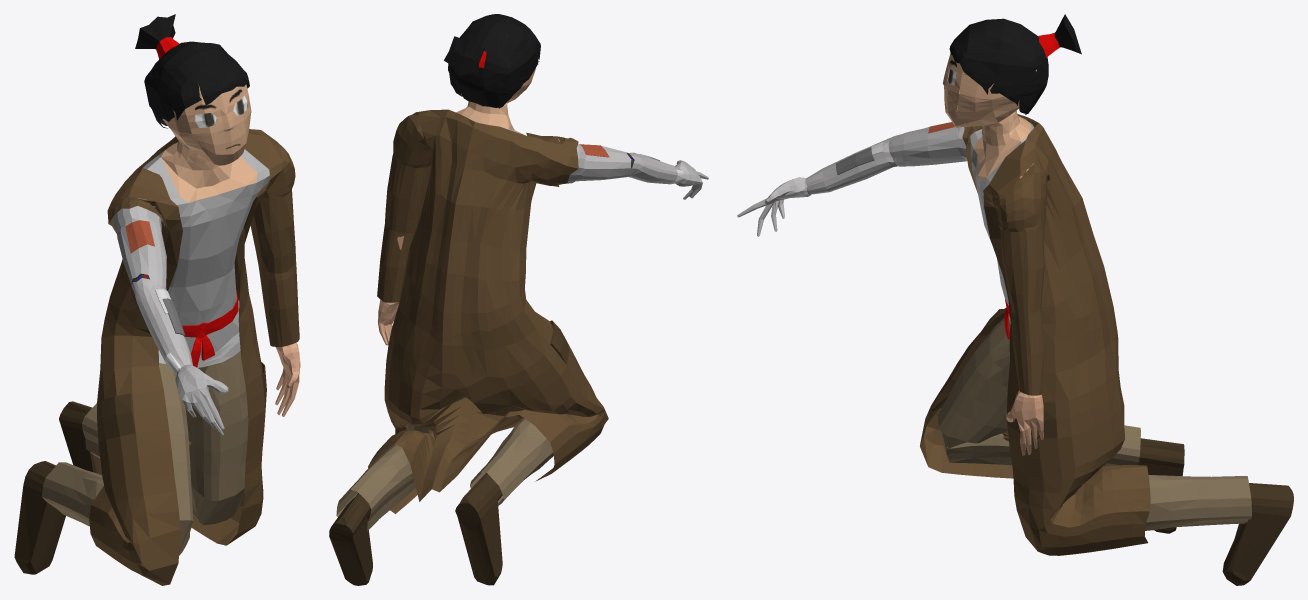
File: One_Die_000020.obj
3 views of the same model, side by side, from view 1: azimuth 30°, elevation 25°; view 2: azimuth 150°, elevation 25°; view 3: azimuth 270°, elevation 25° (orthographic). The views are drawn at different scales.
Visible parts, largest first — view 1: Hair_Cube.004; view 2: Hair_Cube.004; view 3: Hair_Cube.004.
Boxes of the visible parts, bbox=[...] form: Hair_Cube.004: bbox=[14, 14, 300, 585]; Hair_Cube.004: bbox=[329, 14, 708, 585]; Hair_Cube.004: bbox=[737, 14, 1293, 585].
Size of the model in its own units: 1.35 by 3.03 by 2.77.
